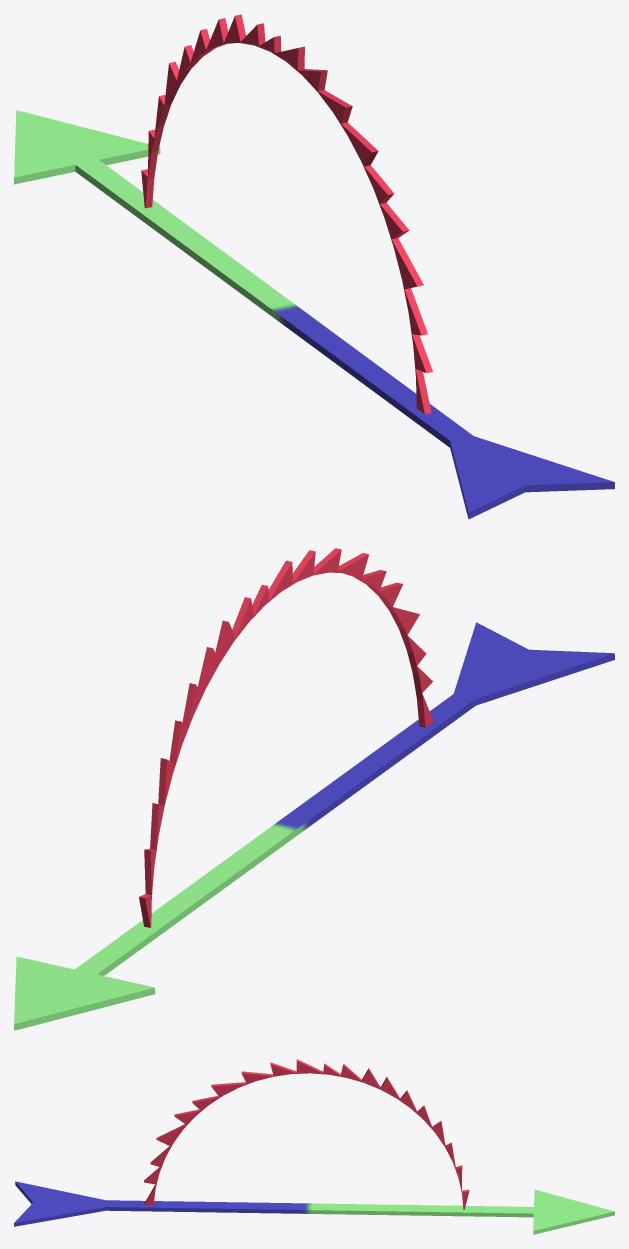
File: arrow4.fbx
3 renders of one model, top to bottom at view 1: azimuth 30°, elevation 25°; view 2: azimuth 150°, elevation 25°; view 3: azimuth 270°, elevation 25°, orthographic. The views are drawn at different scales.
Visible parts, largest first — view 1: 20140320_arrow4; view 2: 20140320_arrow4; view 3: 20140320_arrow4.
Boxes of the visible parts, bbox=[...] form: 20140320_arrow4: bbox=[14, 14, 614, 519]; 20140320_arrow4: bbox=[14, 548, 614, 1030]; 20140320_arrow4: bbox=[14, 1059, 614, 1234].
Bounding box in the file's own units: 2.58 × 4.4 × 15.39.
1 material, 1 textured.
